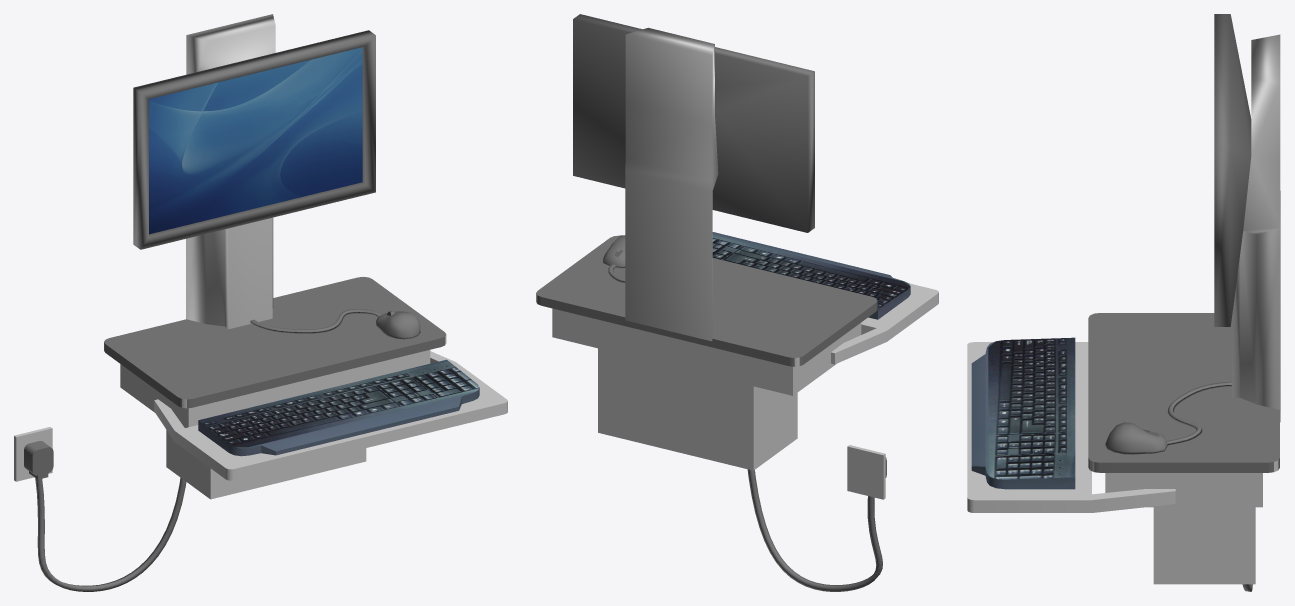
The model's file is wall_mounted_computer.fbx.
The picture shows the model from 3 angles, left to right: view 1: azimuth 30°, elevation 25°; view 2: azimuth 150°, elevation 25°; view 3: azimuth 270°, elevation 25°; orthographic projection. The views are drawn at different scales.
Parts seen in each view (by area): view 1: monitor, countertop, keyboard, keyboard_support, computer_cord, outlet, mouse, mouse_cord; view 2: monitor, countertop, keyboard, keyboard_support, computer_cord, outlet, mouse; view 3: countertop, monitor, keyboard, keyboard_support, mouse, mouse_cord.
Part boxes in pixels (<box>): monitor: <box>133,14,375,328</box>; countertop: <box>104,276,446,499</box>; keyboard: <box>198,359,479,456</box>; keyboard_support: <box>154,351,507,480</box>; computer_cord: <box>35,477,186,591</box>; outlet: <box>14,427,53,481</box>; mouse: <box>376,310,420,339</box>; mouse_cord: <box>250,309,382,333</box>; monitor: <box>573,14,814,341</box>; countertop: <box>536,235,877,470</box>; keyboard: <box>712,232,910,319</box>; keyboard_support: <box>831,283,938,364</box>; computer_cord: <box>747,469,882,591</box>; outlet: <box>847,445,886,499</box>; mouse: <box>603,235,625,268</box>; countertop: <box>1088,313,1279,584</box>; monitor: <box>1214,14,1280,413</box>; keyboard: <box>971,337,1075,489</box>; keyboard_support: <box>967,342,1175,512</box>; mouse: <box>1105,422,1167,454</box>; mouse_cord: <box>1166,381,1231,445</box>.
Size of the model in its own units: 1.94 by 2.69 by 1.27.
Materials: 3 (1 with a texture image).
